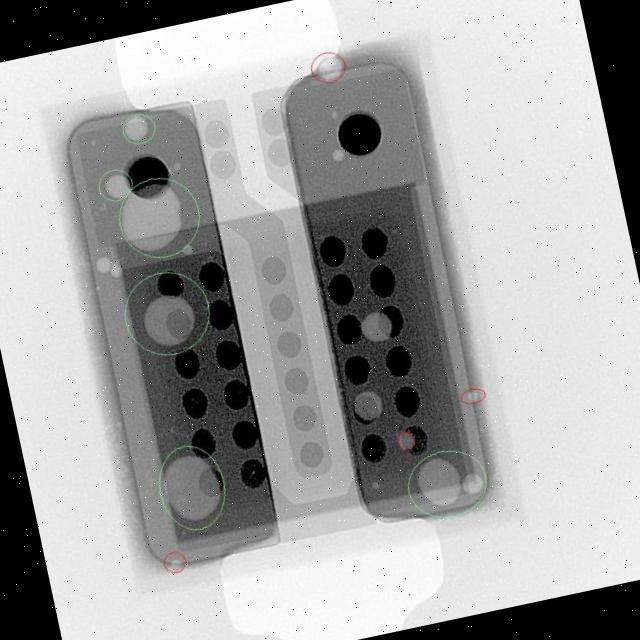chip: (69, 106, 277, 566), (284, 64, 486, 519)
void: (121, 181, 180, 252), (164, 454, 219, 520), (143, 294, 194, 344), (416, 457, 458, 503), (359, 311, 390, 342), (352, 389, 382, 420), (122, 114, 149, 140), (92, 255, 121, 278), (314, 56, 341, 78), (104, 174, 129, 197), (460, 470, 482, 495), (458, 387, 483, 403), (396, 431, 413, 451), (329, 147, 343, 162), (181, 243, 192, 254), (170, 160, 180, 169), (328, 108, 335, 117), (330, 108, 337, 116), (371, 480, 378, 488)
